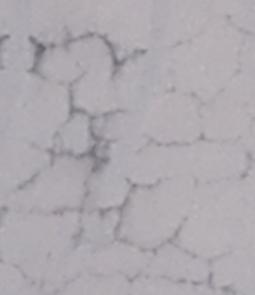fissura: (14, 15, 226, 295)
